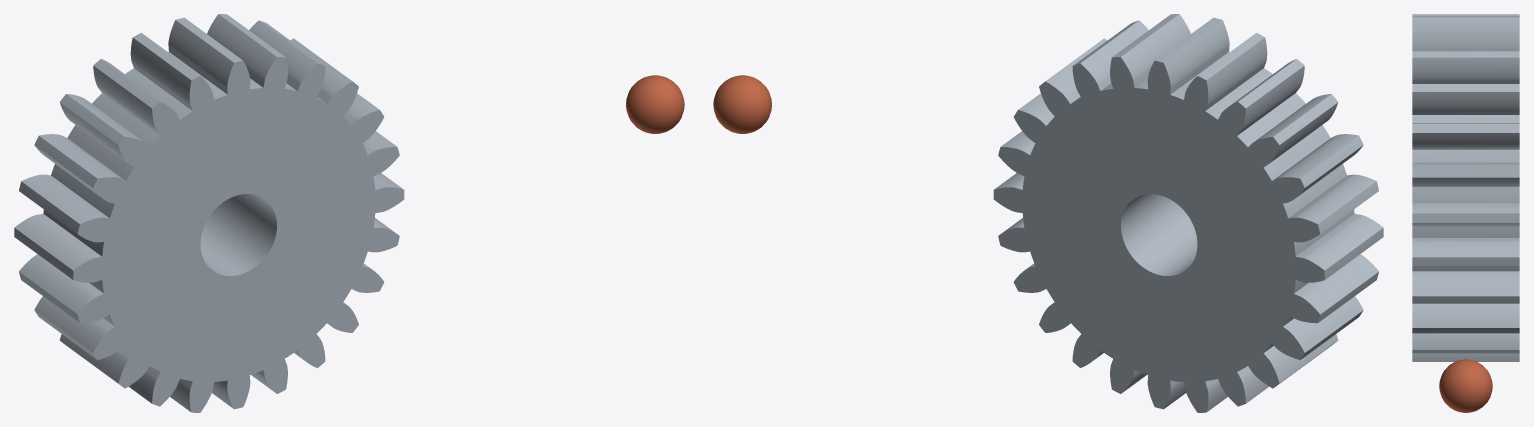
File: morphloom-project.glb
3 renders of one model, left to right at view 1: azimuth 30°, elevation 25°; view 2: azimuth 150°, elevation 25°; view 3: azimuth 270°, elevation 25°, orthographic. The views are drawn at different scales.
Parts seen in each view (by area): view 1: spur_gear, preserved_sphere; view 2: spur_gear, preserved_sphere; view 3: spur_gear, preserved_sphere.
Part boxes in pixels (<box>): spur_gear: <box>14,14,404,412</box>; preserved_sphere: <box>626,75,684,133</box>; spur_gear: <box>993,14,1383,412</box>; preserved_sphere: <box>713,75,771,133</box>; spur_gear: <box>1412,14,1519,361</box>; preserved_sphere: <box>1439,359,1492,412</box>.
Size of the model in its own units: 0.05 by 0.026 by 0.008.
